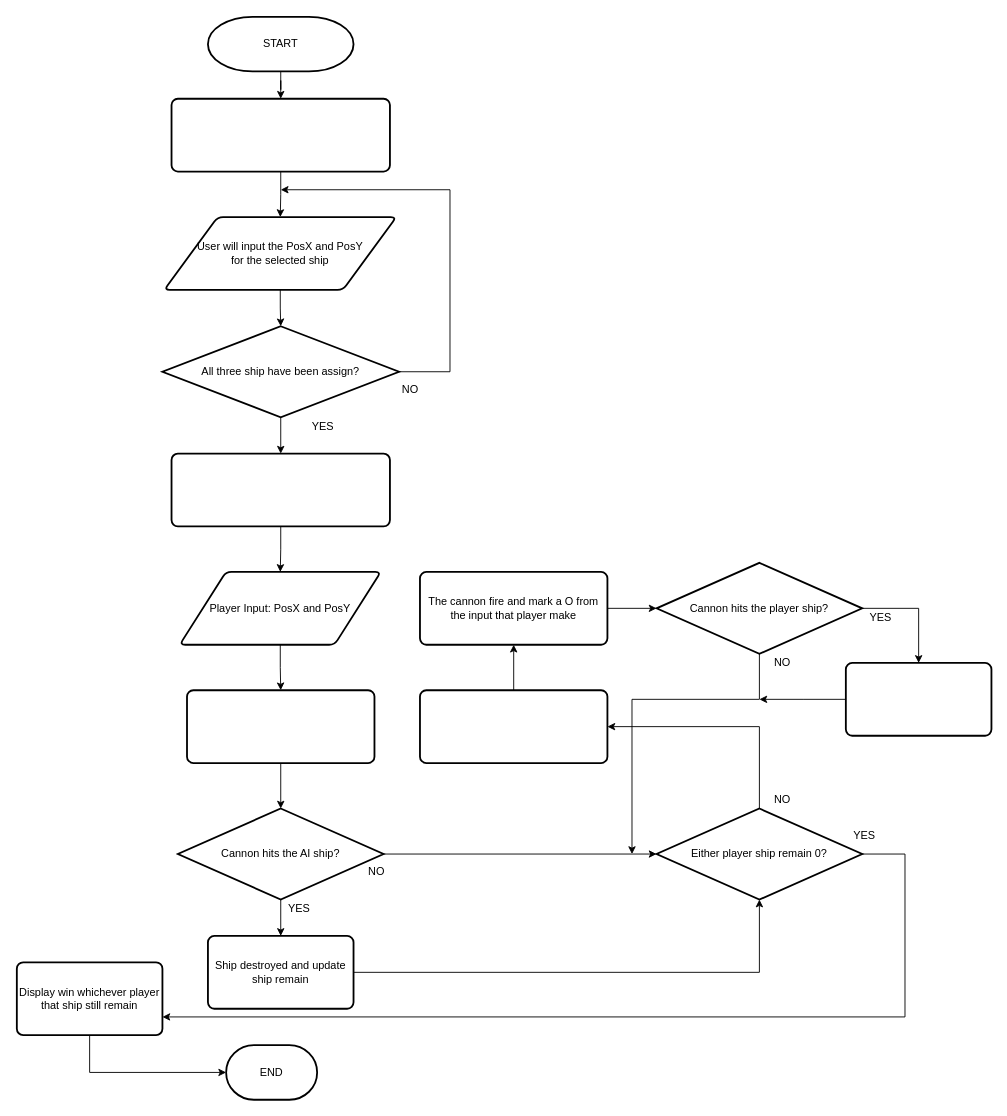
The diagram is 1007 pixels wide and 1116 high, and some of its shapes have lost their labels. Here are the shapes that lost their labels. From the top down, the centre of each, then its label:
(x=280, y=134): Process to Transition Scene
(x=280, y=489): Process to Gameplay Scene
(x=918, y=699): AI : Ship destroyed and update ship remain
(x=280, y=726): The cannon fire and mark a X from the input that player make
(x=513, y=726): BOT randomly put up PosX and PosY
